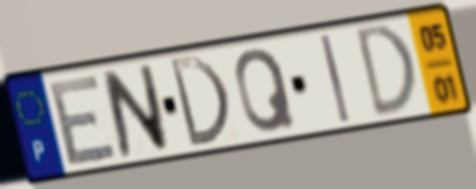D: (354, 21, 422, 123), (165, 54, 233, 150)
E: (46, 70, 121, 170)
I: (317, 31, 354, 126)
N: (99, 61, 173, 161)
Q: (232, 45, 300, 136)
